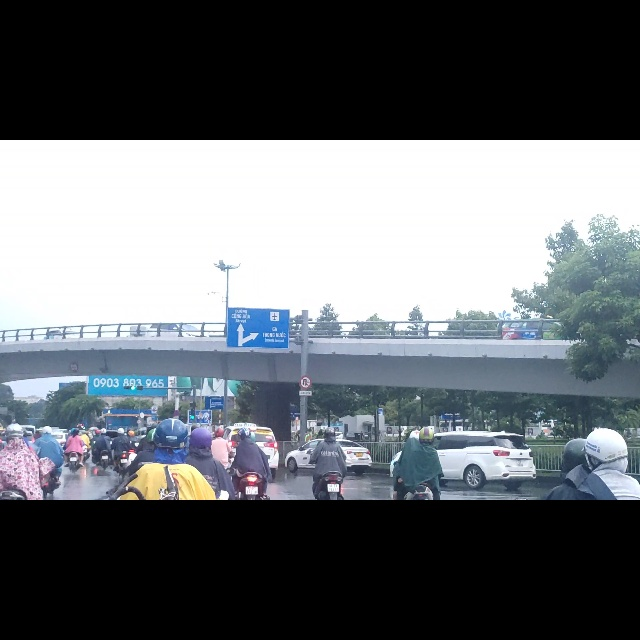bien_chi_dan: (300, 418, 312, 444)
